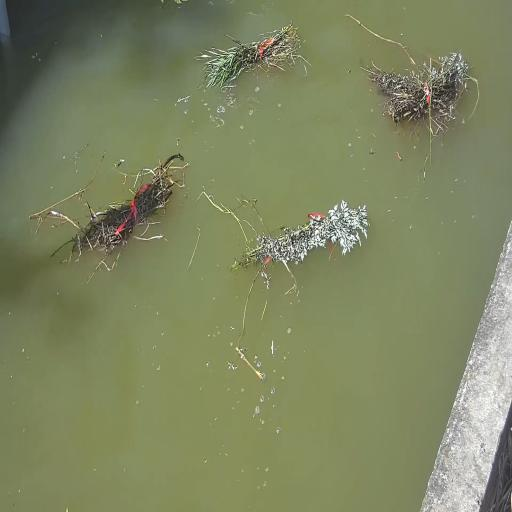twig: (30, 150, 166, 258), (244, 200, 356, 266), (386, 48, 464, 141), (192, 22, 298, 86), (160, 0, 190, 9)
